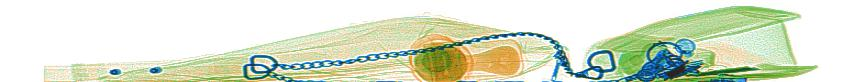seal: (408, 30, 526, 79)
